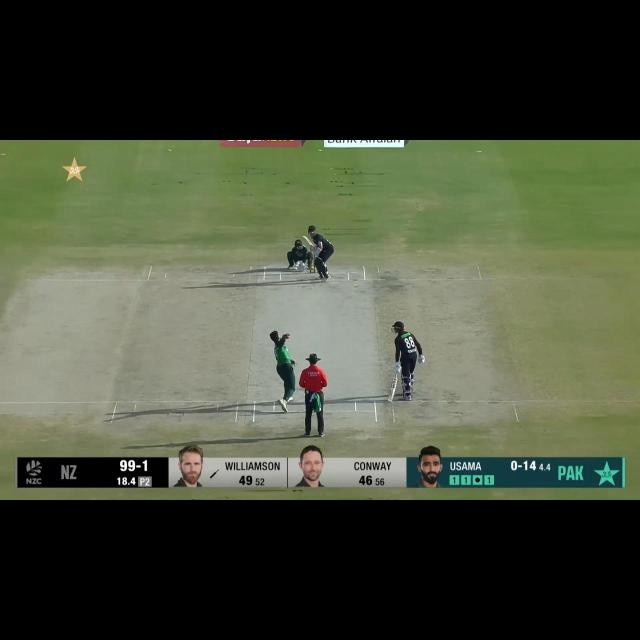bat: (387, 377, 399, 403), (302, 234, 314, 247)
toe: (387, 396, 393, 403), (302, 235, 307, 239)
